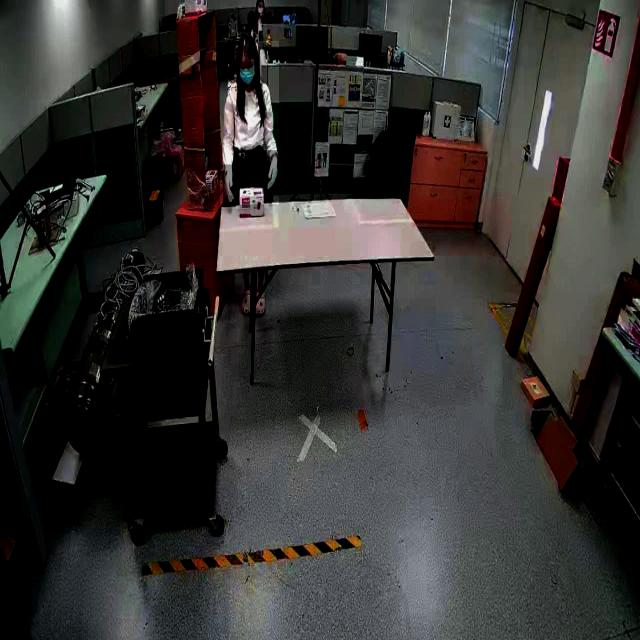face_mask: (236, 61, 258, 91), (256, 0, 264, 17)
hand_glove: (262, 150, 282, 195), (222, 164, 235, 208)
head_nohelmet: (236, 32, 258, 56)
person: (219, 41, 279, 205)
